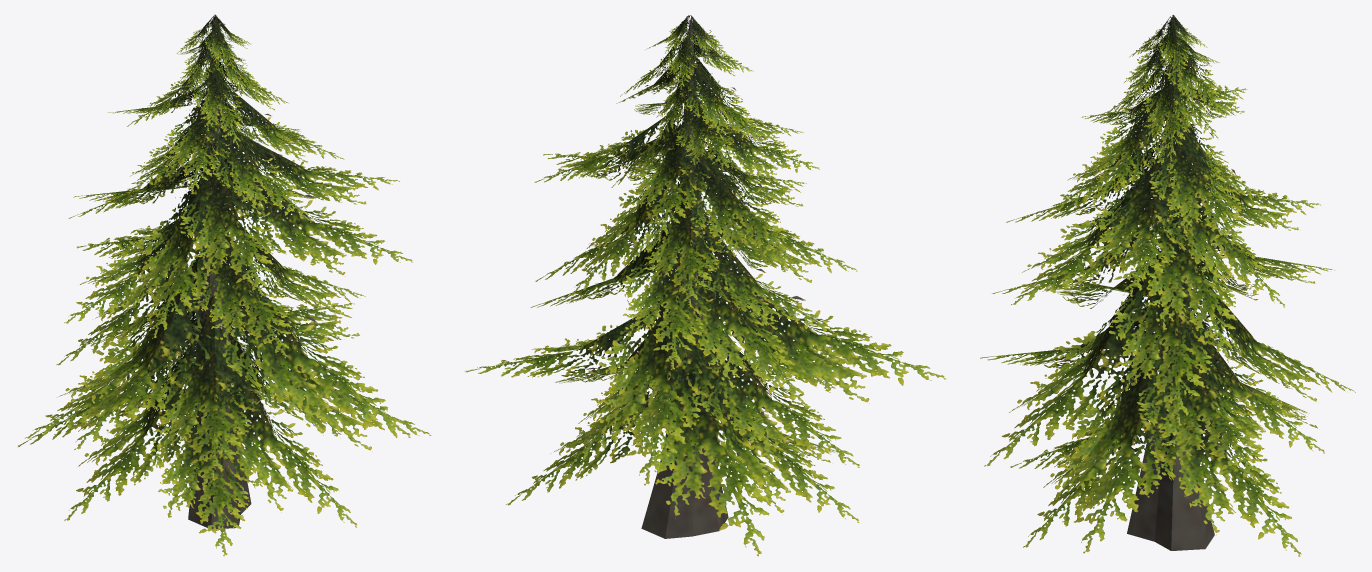
Rendered from pine_tree.fbx.
3 renders of one model, left to right at view 1: azimuth 30°, elevation 25°; view 2: azimuth 150°, elevation 25°; view 3: azimuth 270°, elevation 25°, orthographic. The views are drawn at different scales.
Parts seen in each view (by area): view 1: leaves, bark; view 2: leaves, bark; view 3: leaves, bark.
Boxes of the visible parts, x1=… form: leaves: x1=18, y1=14, x2=431, y2=556; bark: x1=188, y1=19, x2=251, y2=528; leaves: x1=464, y1=15, x2=946, y2=556; bark: x1=641, y1=19, x2=728, y2=538; leaves: x1=980, y1=15, x2=1355, y2=556; bark: x1=1127, y1=19, x2=1214, y2=550.
Size of the model in its own units: 939 by 1184 by 787.
